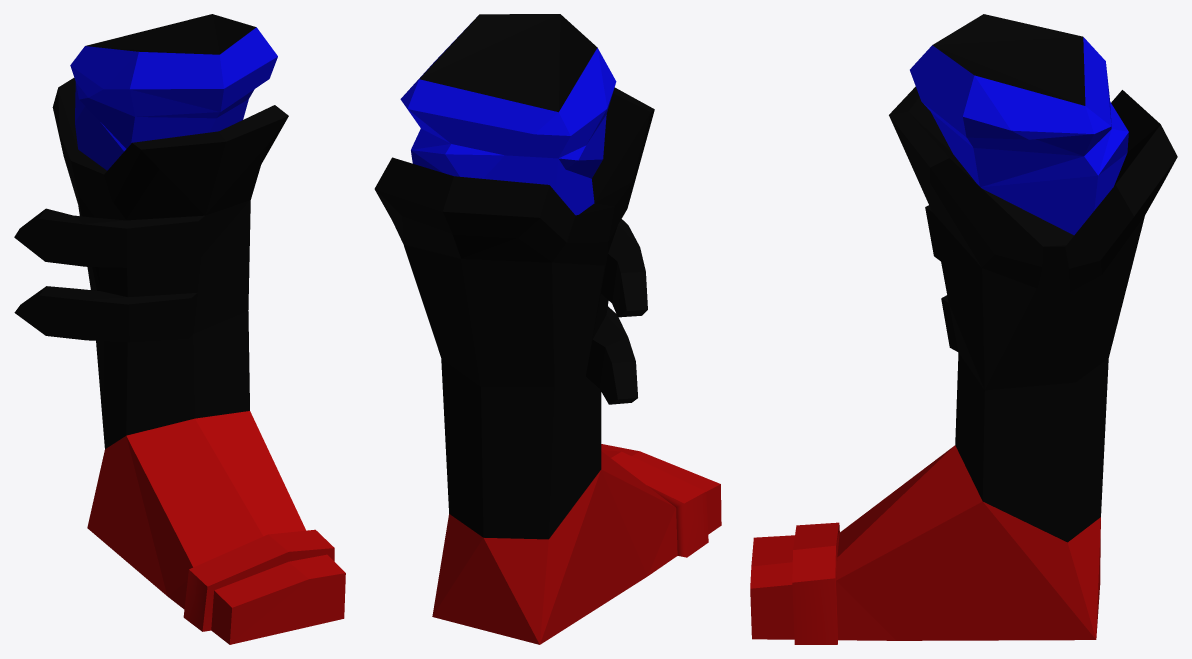
The model's file is Chr_LegLeft_Male_Static_04.fbx.
The picture shows the model from 3 angles, left to right: view 1: azimuth 30°, elevation 25°; view 2: azimuth 150°, elevation 25°; view 3: azimuth 270°, elevation 25°; orthographic projection. The views are drawn at different scales.
Parts seen in each view (by area): view 1: Chr_LegLeft_Male_04; view 2: Chr_LegLeft_Male_04; view 3: Chr_LegLeft_Male_04.
Boxes of the visible parts, box(x1,y1,x2,y2) form: Chr_LegLeft_Male_04: box(14, 14, 345, 644); Chr_LegLeft_Male_04: box(374, 14, 721, 644); Chr_LegLeft_Male_04: box(750, 14, 1177, 644).
Bounding box in the file's own units: 18.43 × 40.41 × 27.43.
